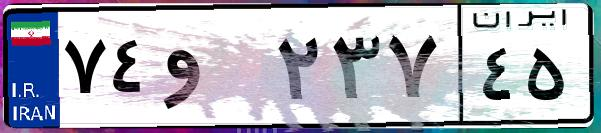2: (270, 28, 330, 110)
3: (330, 28, 385, 110)
4: (475, 38, 525, 113), (110, 28, 158, 98)
5: (525, 38, 570, 115)
7: (385, 28, 445, 110), (57, 26, 110, 100)
و: (158, 20, 270, 120)
